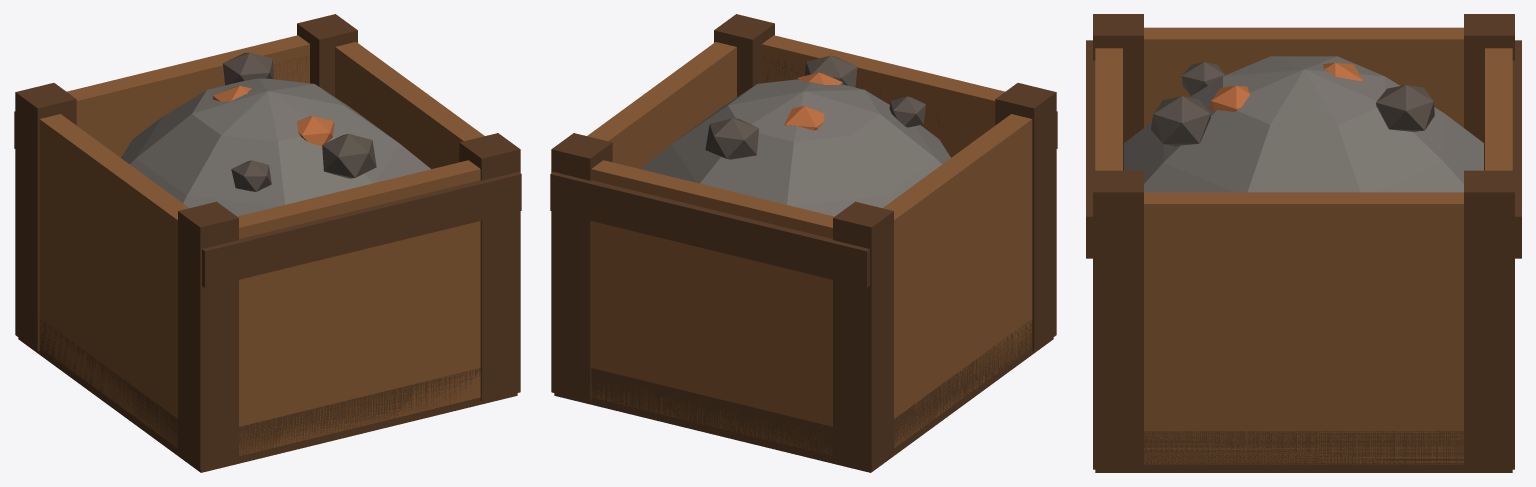
The model's file is mine_crate_ore.glb.
3 views of the same model, side by side, from view 1: azimuth 30°, elevation 25°; view 2: azimuth 150°, elevation 25°; view 3: azimuth 270°, elevation 25° (orthographic). The views are drawn at different scales.
Visible parts, largest first — view 1: mine_crate_ore; view 2: mine_crate_ore; view 3: mine_crate_ore.
Boxes of the visible parts, left/top/right/bottom form: mine_crate_ore: left=14, top=14, right=521, bottom=472; mine_crate_ore: left=550, top=14, right=1057, bottom=472; mine_crate_ore: left=1086, top=14, right=1521, bottom=472.
Bounding box in the file's own units: 0.91 × 0.75 × 0.94.
